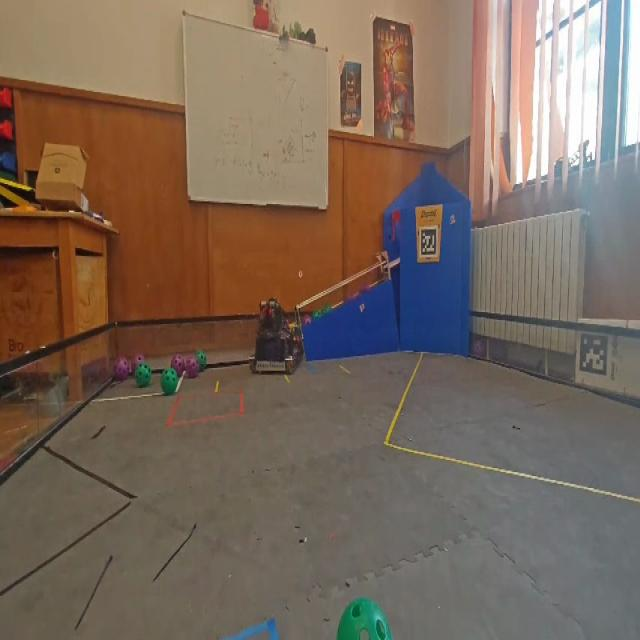artifact_green: (337, 599, 392, 639), (162, 368, 178, 395), (135, 363, 152, 387), (196, 350, 206, 371), (322, 306, 332, 315), (312, 311, 322, 319)
artifact_purple: (114, 358, 129, 381), (186, 355, 200, 378), (171, 355, 185, 377), (132, 354, 144, 373), (303, 315, 311, 325), (129, 362, 134, 375)
